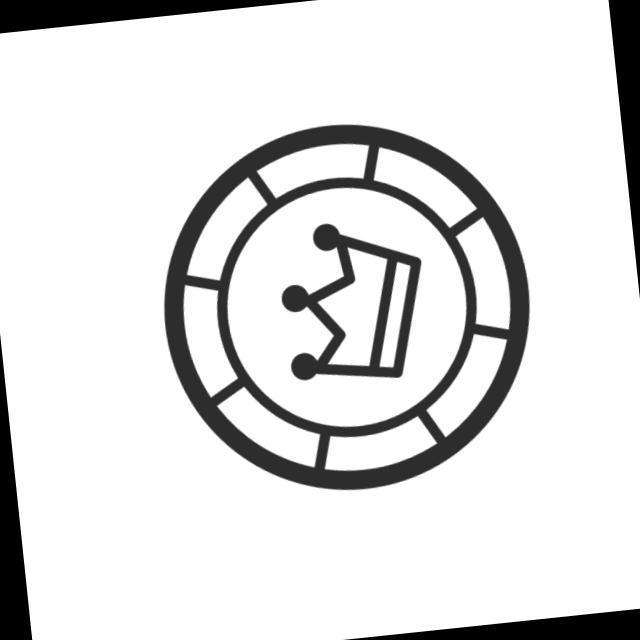coin: (137, 99, 558, 515)
